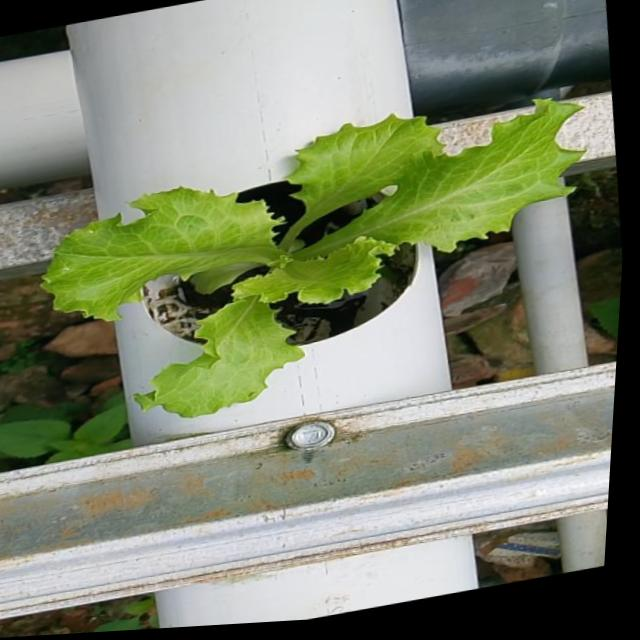Baby: (38, 100, 580, 419)
